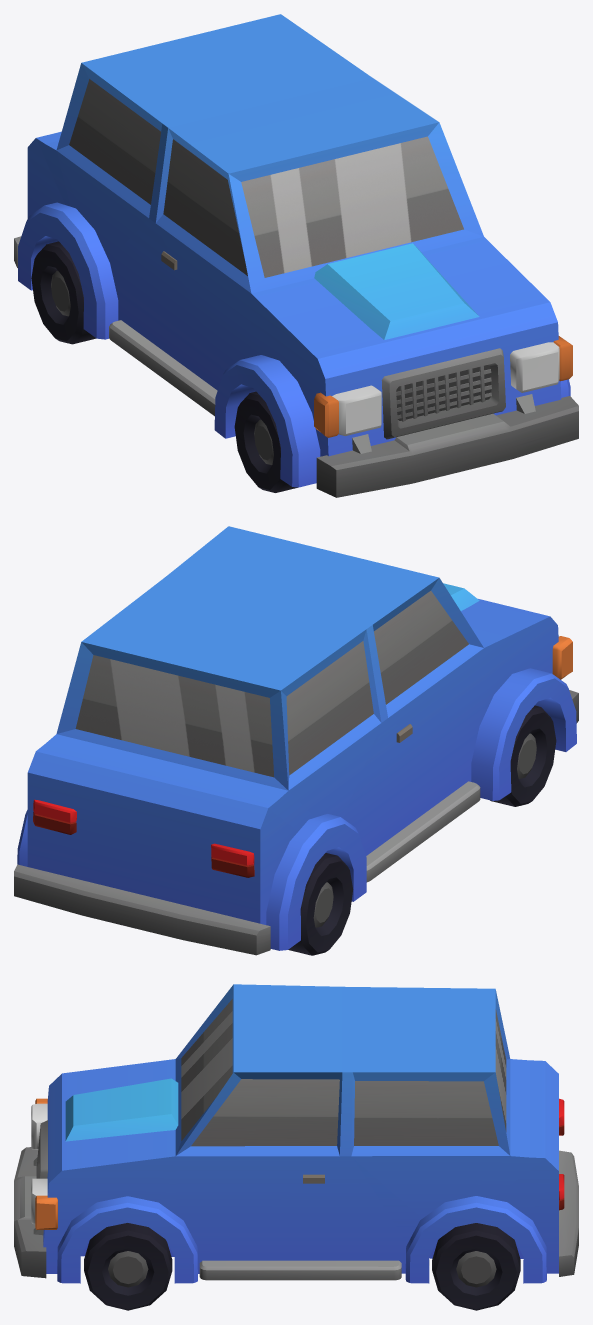
The model's file is Car_3_16.fbx.
3 views of the same model, one above another, from view 1: azimuth 30°, elevation 25°; view 2: azimuth 150°, elevation 25°; view 3: azimuth 270°, elevation 25° (orthographic). The views are drawn at different scales.
Visible parts, largest first — view 1: Car_3_16, Wheel_Br, Wheel_Fr; view 2: Car_3_16, Wheel_Br, Wheel_Fr; view 3: Car_3_16, Wheel_Bl, Wheel_Fl.
Part boxes in pixels (x1=…): Car_3_16: x1=14, y1=14, x2=578, y2=497; Wheel_Br: x1=31, y1=241, x2=96, y2=344; Wheel_Fr: x1=234, y1=391, x2=297, y2=492; Car_3_16: x1=14, y1=526, x2=578, y2=955; Wheel_Br: x1=288, y1=853, x2=353, y2=955; Wheel_Fr: x1=490, y1=705, x2=556, y2=806; Car_3_16: x1=14, y1=984, x2=578, y2=1283; Wheel_Bl: x1=432, y1=1223, x2=520, y2=1310; Wheel_Fl: x1=84, y1=1223, x2=172, y2=1310.
Size of the model in its own units: 1.13 by 1.02 by 2.3.
